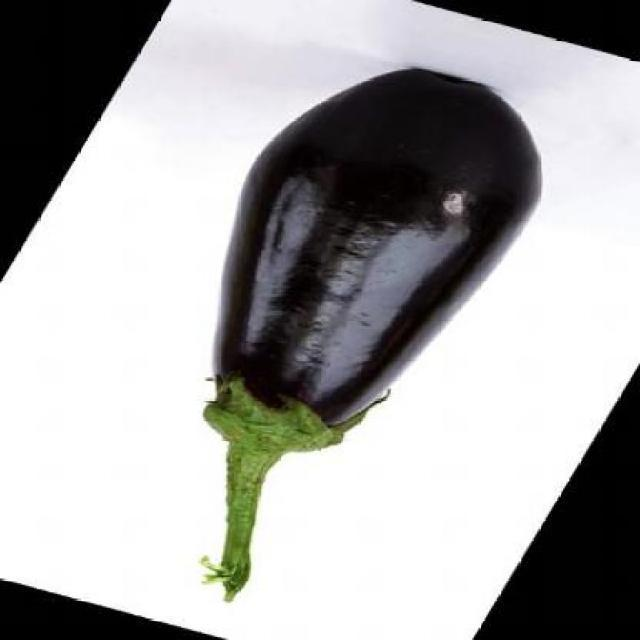eggplant: (195, 33, 545, 616)
